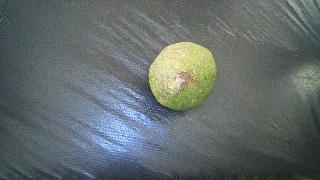DESECHO: (149, 42, 217, 110)
